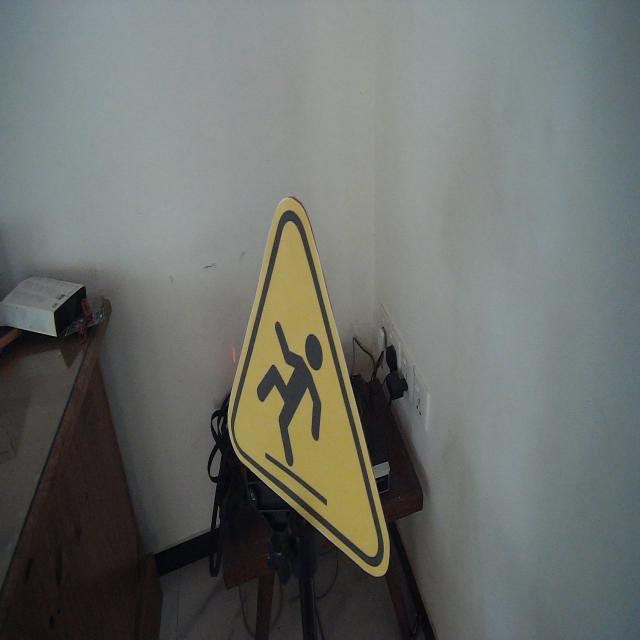slippery_sign: (225, 194, 393, 582)
